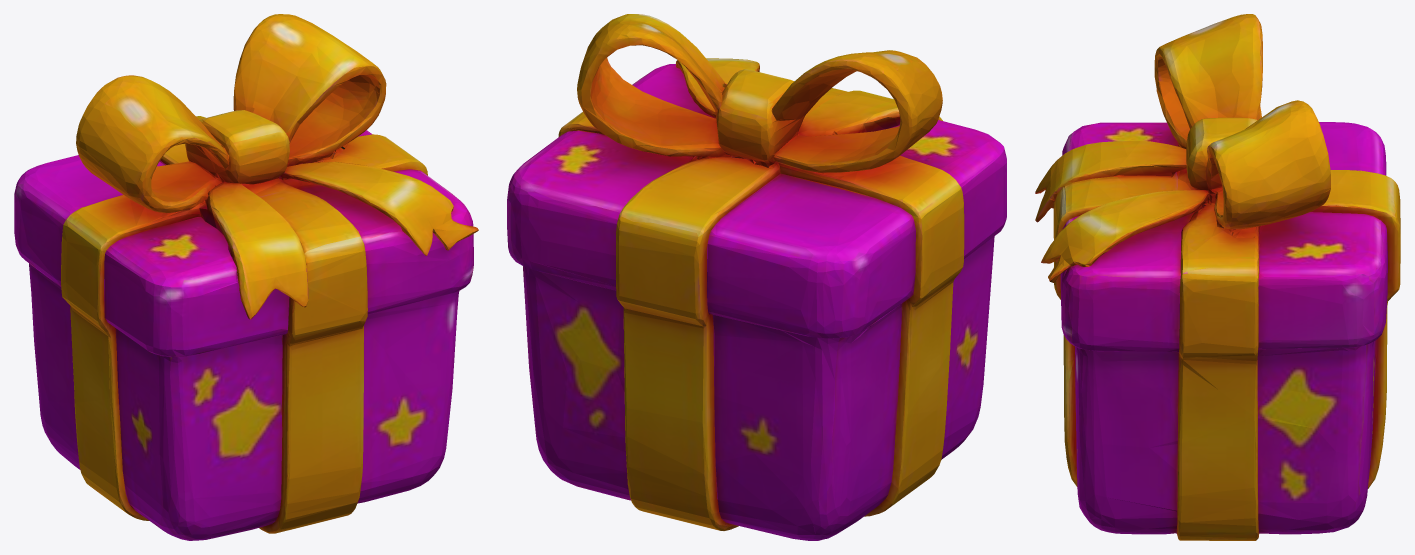
Rendered from cadeau.glb.
3 views of the same model, side by side, from view 1: azimuth 30°, elevation 25°; view 2: azimuth 150°, elevation 25°; view 3: azimuth 270°, elevation 25° (orthographic). The views are drawn at different scales.
Parts seen in each view (by area): view 1: geometry_0; view 2: geometry_0; view 3: geometry_0.
Part boxes in pixels (<box>): geometry_0: <box>14,14,478,540</box>; geometry_0: <box>507,14,1006,540</box>; geometry_0: <box>1035,14,1400,540</box>.
Size of the model in its own units: 0.8257 by 0.9923 by 0.7869.
1 material, 1 textured.
